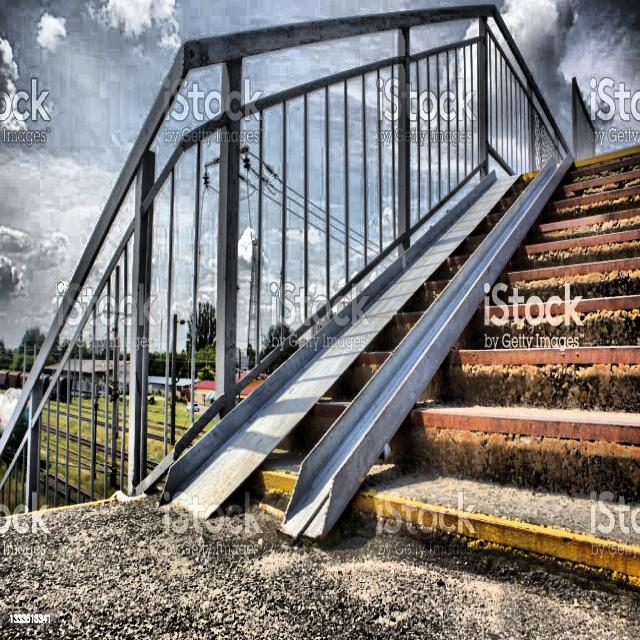escada: (359, 148, 640, 583)
